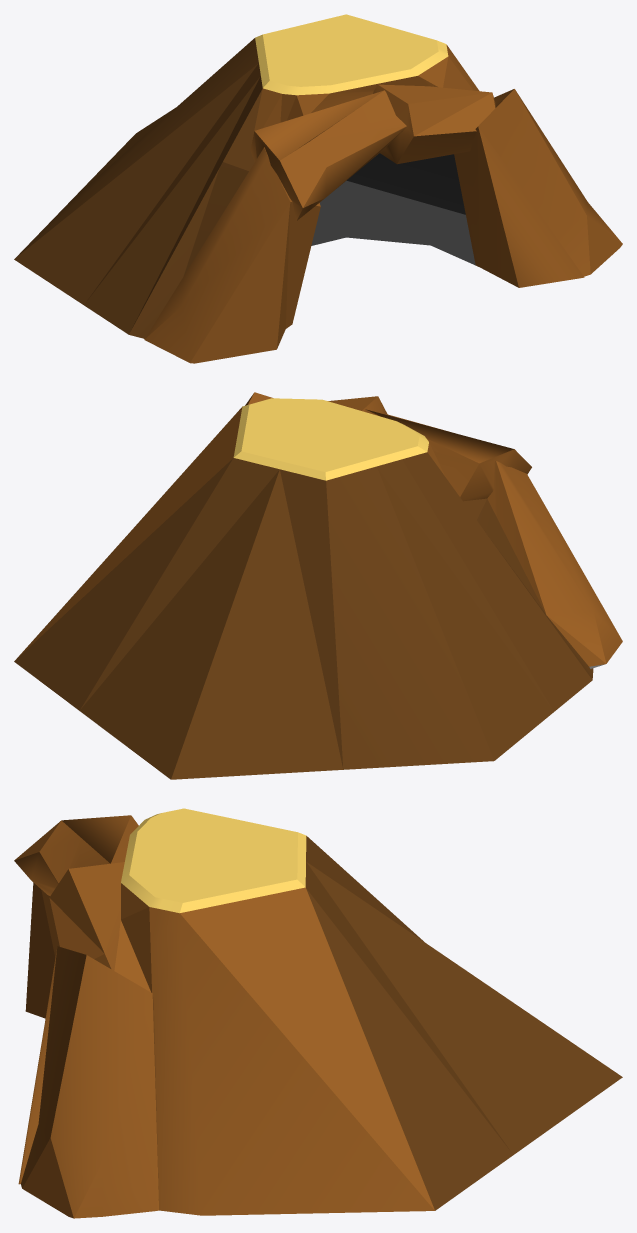
The model's file is Cave_Sand_01.fbx.
3 views of the same model, one above another, from view 1: azimuth 30°, elevation 25°; view 2: azimuth 150°, elevation 25°; view 3: azimuth 270°, elevation 25° (orthographic). The views are drawn at different scales.
Visible parts, largest first — view 1: Model; view 2: Model; view 3: Model.
Boxes of the visible parts, left/top/right/bottom form: Model: left=14, top=14, right=622, bottom=363; Model: left=14, top=392, right=622, bottom=779; Model: left=14, top=808, right=622, bottom=1218.
Bounding box in the file's own units: 2569 × 1064 × 2471.
